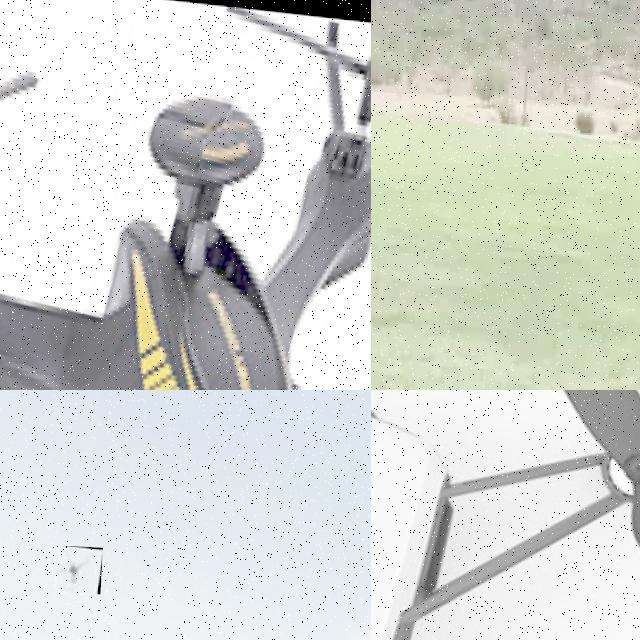drone: (0, 0, 371, 390), (371, 390, 640, 640), (56, 546, 104, 594)
